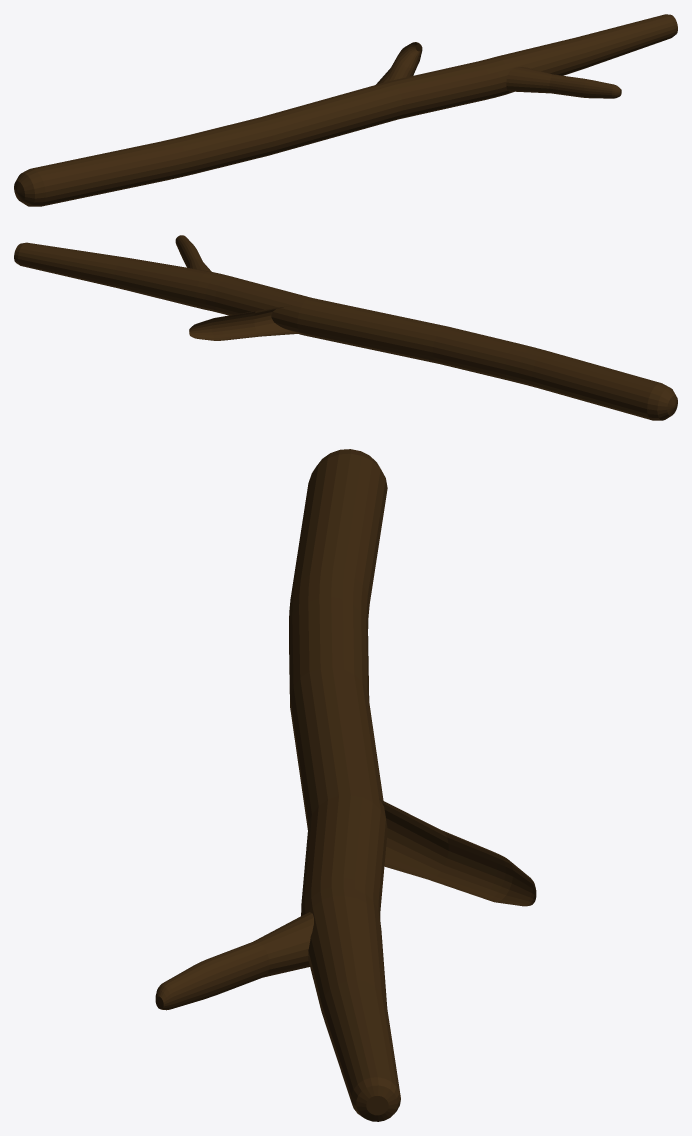
The model's file is stick2.fbx.
3 renders of one model, top to bottom at view 1: azimuth 30°, elevation 25°; view 2: azimuth 150°, elevation 25°; view 3: azimuth 270°, elevation 25°, orthographic. The views are drawn at different scales.
Visible parts, largest first — view 1: Cylinder.001; view 2: Cylinder.001; view 3: Cylinder.001.
Part boxes in pixels (x1,y1,x2,y2): Cylinder.001: (14, 14, 677, 206); Cylinder.001: (14, 235, 677, 420); Cylinder.001: (155, 449, 536, 1121).
Bounding box in the file's own units: 48.83 × 2.48 × 12.37.
